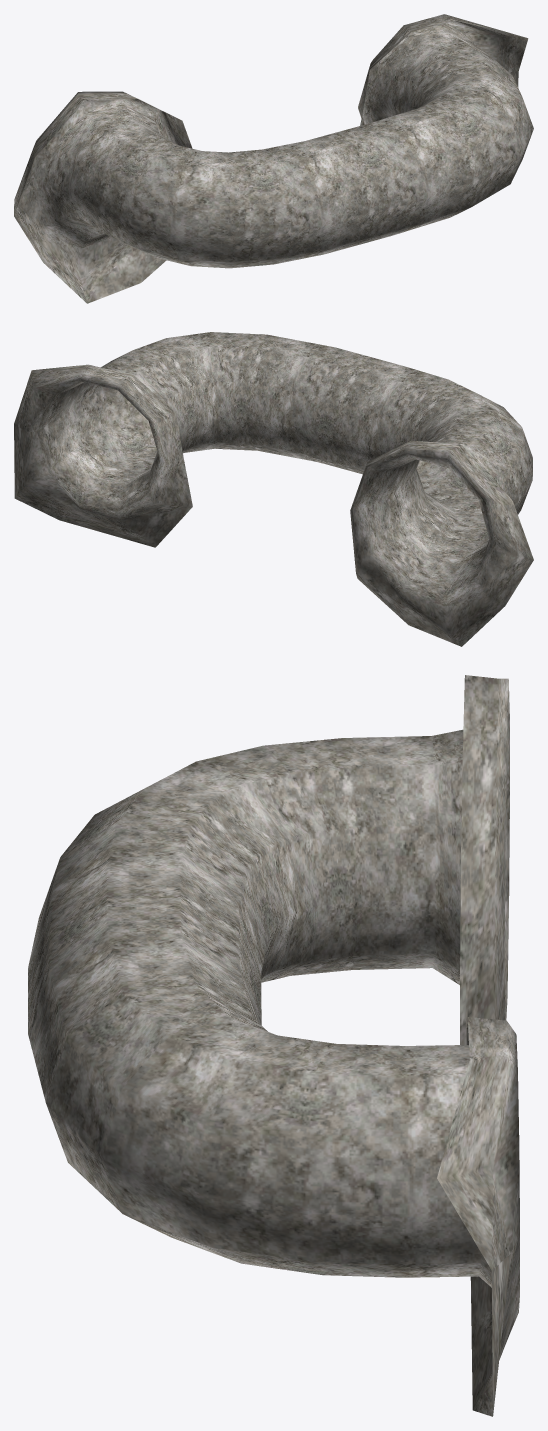
Rendered from DWARF_PALACE_ARKENSTONE_GEAR_CAVE.fbx.
The picture shows the model from 3 angles, top to bottom: view 1: azimuth 30°, elevation 25°; view 2: azimuth 150°, elevation 25°; view 3: azimuth 270°, elevation 25°; orthographic projection. The views are drawn at different scales.
Parts seen in each view (by area): view 1: DWARF_PALACE_ARKENSTONE_GEAR_CAVE; view 2: DWARF_PALACE_ARKENSTONE_GEAR_CAVE; view 3: DWARF_PALACE_ARKENSTONE_GEAR_CAVE.
Part boxes in pixels (box(x1,y1,x2,y2)): DWARF_PALACE_ARKENSTONE_GEAR_CAVE: box(14, 14, 533, 303); DWARF_PALACE_ARKENSTONE_GEAR_CAVE: box(14, 332, 533, 646); DWARF_PALACE_ARKENSTONE_GEAR_CAVE: box(28, 675, 519, 1416).
Bounding box in the file's own units: 504613 × 191716 × 210511.
1 material, 1 textured.
